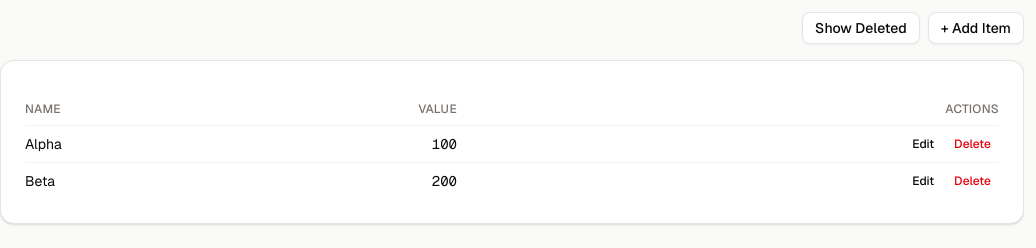
Scenario: CrudTable › cancels edit mode
Click the button "Edit" in the row of "Alpha" at (923, 144), box 904,132 -> 942,156
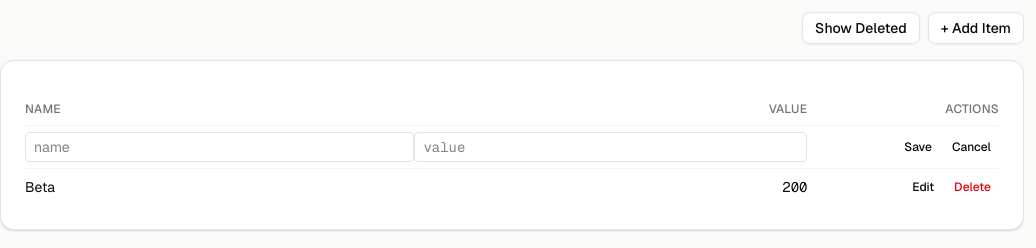
Click the button "Cancel" at (971, 147), box 944,135 -> 999,159
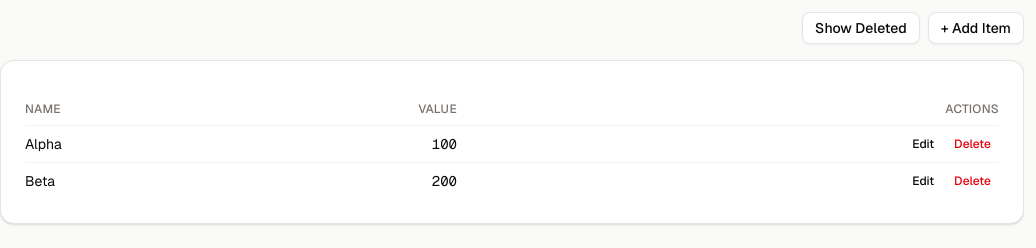
Expected: no fields are shown
